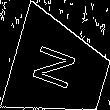N_E: (32, 43, 86, 97)
